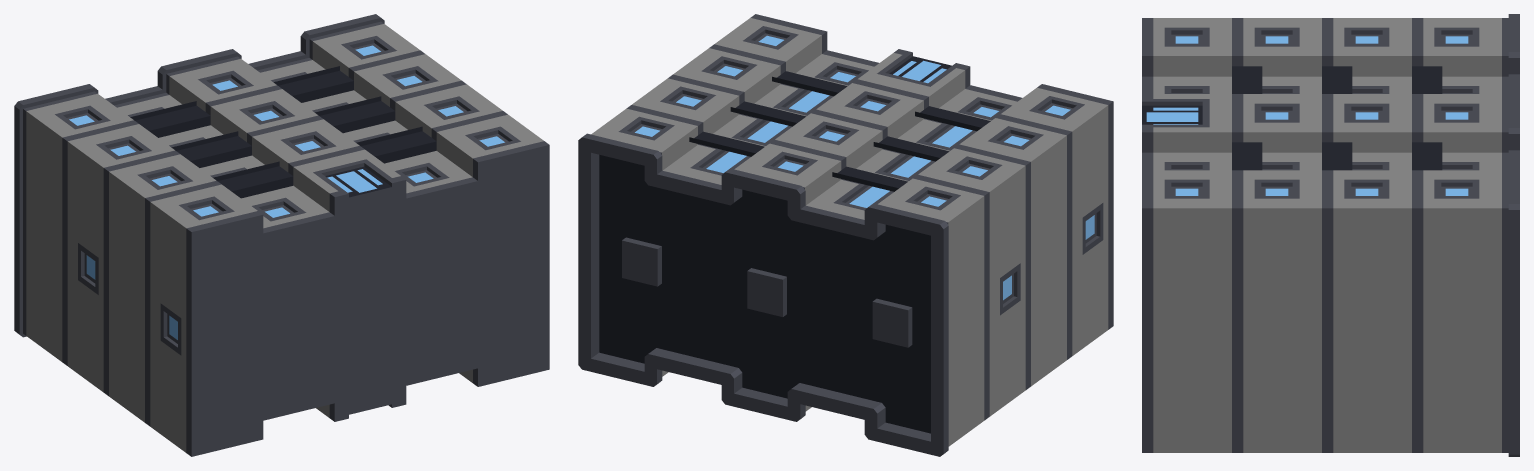
Rendered from large_buildingA.001.obj.
3 renders of one model, left to right at view 1: azimuth 30°, elevation 25°; view 2: azimuth 150°, elevation 25°; view 3: azimuth 270°, elevation 25°, orthographic. The views are drawn at different scales.
Parts seen in each view (by area): view 1: hospital_large_buildingA.001; view 2: hospital_large_buildingA.001; view 3: hospital_large_buildingA.001.
Part boxes in pixels (left/top/right/bottom): hospital_large_buildingA.001: left=14, top=14, right=549, bottom=456; hospital_large_buildingA.001: left=578, top=14, right=1113, bottom=456; hospital_large_buildingA.001: left=1142, top=14, right=1519, bottom=456.
Bounding box in the file's own units: 1714 × 1042 × 1411.
